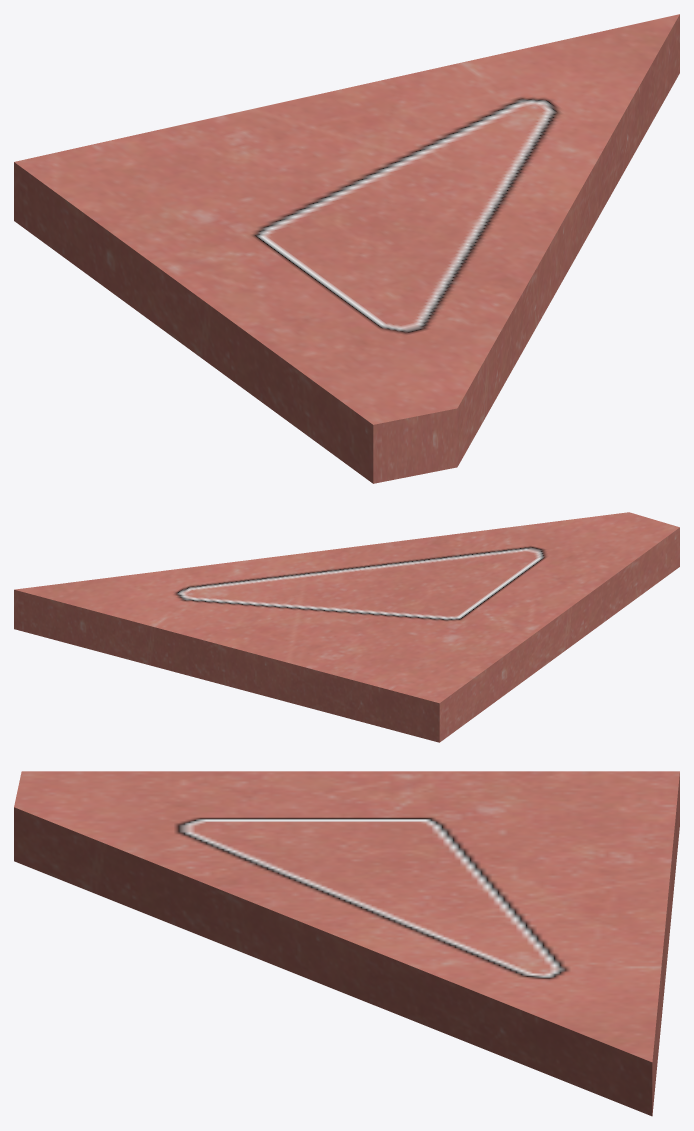
File: SM_SJJ_HG_Wall06P.fbx
3 renders of one model, top to bottom at view 1: azimuth 30°, elevation 25°; view 2: azimuth 150°, elevation 25°; view 3: azimuth 270°, elevation 25°, orthographic. The views are drawn at different scales.
Visible parts, largest first — view 1: SM_SJJ_HG_Wall06P; view 2: SM_SJJ_HG_Wall06P; view 3: SM_SJJ_HG_Wall06P.
Boxes of the visible parts, box(x1,y1,x2,y2) form: SM_SJJ_HG_Wall06P: box(14, 14, 679, 483); SM_SJJ_HG_Wall06P: box(14, 512, 679, 742); SM_SJJ_HG_Wall06P: box(14, 771, 679, 1116).
Bounding box in the file's own units: 123 × 119 × 10.62.
Materials: 1 (1 with a texture image).
